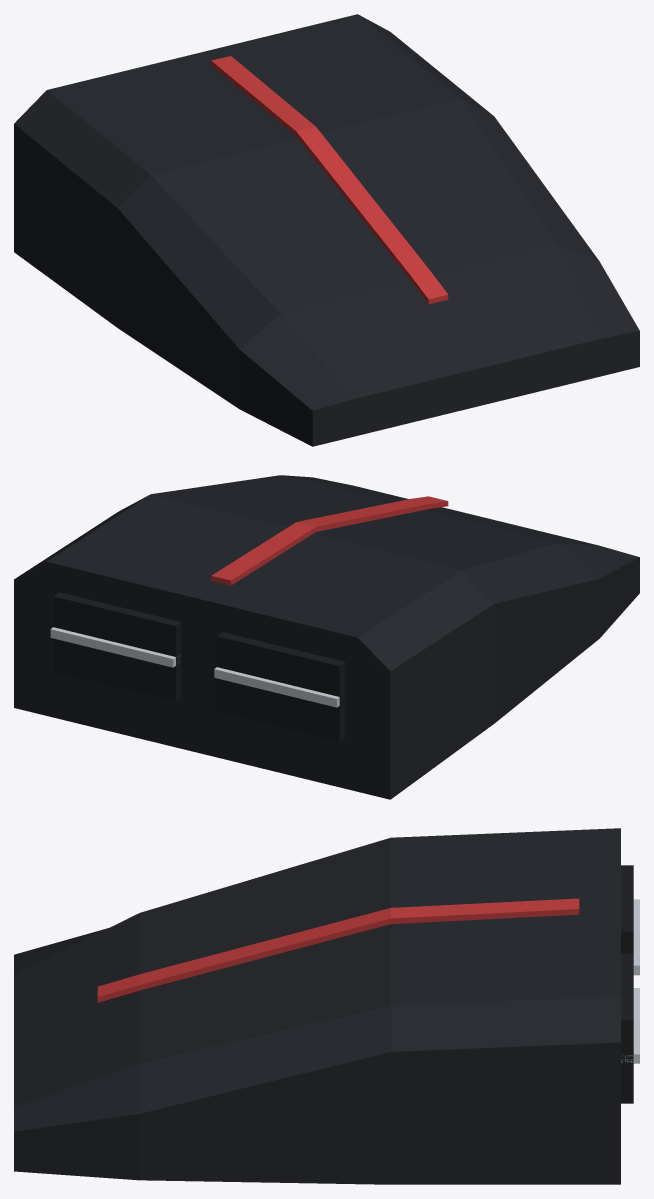
File: roof_scoop.glb
The picture shows the model from 3 angles, top to bottom: view 1: azimuth 30°, elevation 25°; view 2: azimuth 150°, elevation 25°; view 3: azimuth 270°, elevation 25°; orthographic projection. The views are drawn at different scales.
Parts seen in each view (by area): view 1: Body; view 2: Body; view 3: Body.
Boxes of the visible parts, bbox=[...] form: Body: bbox=[14, 14, 639, 446]; Body: bbox=[14, 475, 639, 799]; Body: bbox=[14, 828, 639, 1184].
Size of the model in its own units: 0.46 by 0.189 by 0.598.
